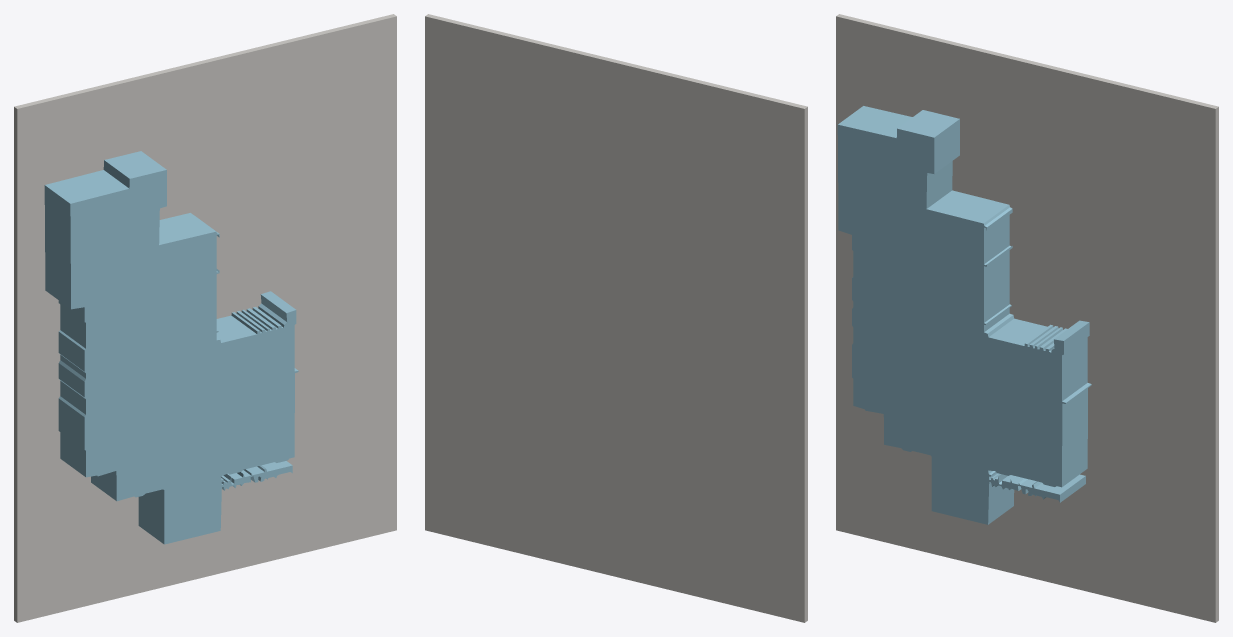
3 renders of one model, left to right at view 1: azimuth 30°, elevation 25°; view 2: azimuth 150°, elevation 25°; view 3: azimuth 330°, elevation 25°, orthographic.
Parts seen in each view (by area): view 1: world; view 2: world; view 3: world.
Part boxes in pixels (x1,y1,x2,y2): world: (14, 14, 396, 622); world: (425, 14, 807, 622); world: (836, 14, 1218, 622).
Bounding box in the file's own units: 10.23 × 13.23 × 1.35.
